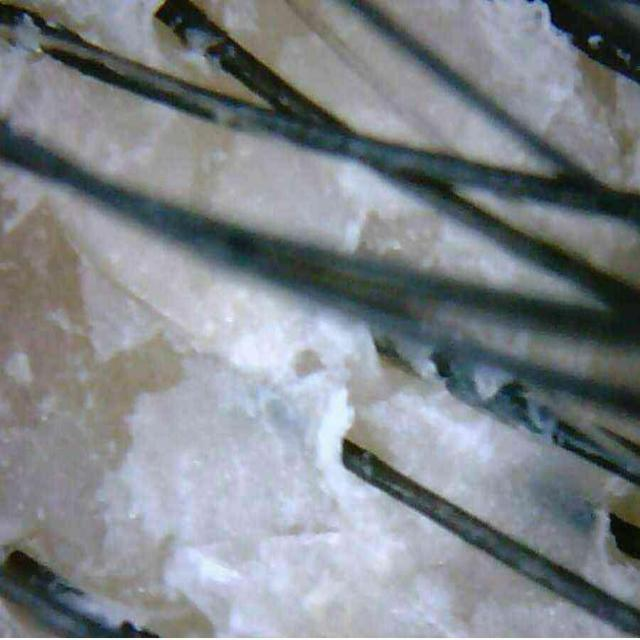d: (5, 351, 32, 385)
ds: (1, 161, 640, 640), (346, 358, 640, 607), (372, 1, 640, 193), (253, 0, 550, 172), (214, 131, 411, 253), (24, 59, 186, 197), (50, 0, 258, 101), (476, 3, 595, 162), (455, 185, 640, 286), (466, 190, 640, 285), (0, 40, 30, 117), (200, 1, 259, 34)
